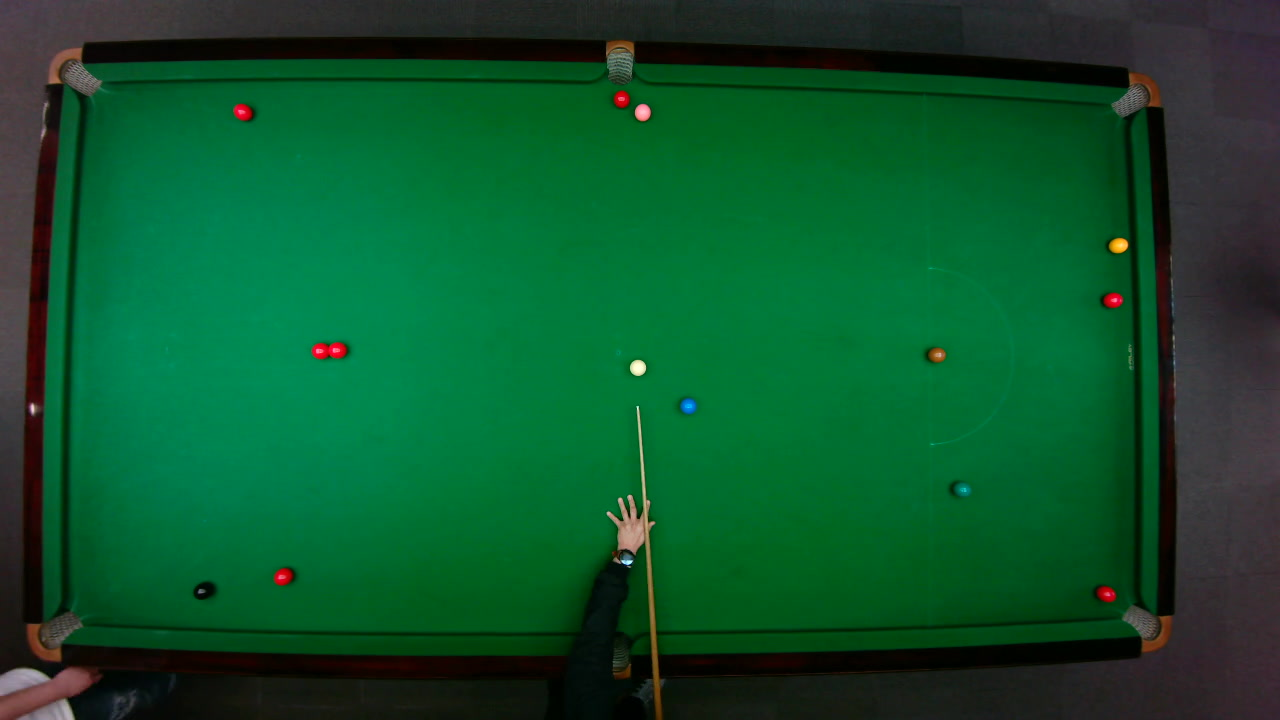bag: (25, 609, 84, 660), (45, 46, 102, 96), (1119, 603, 1172, 652), (1108, 71, 1161, 117), (597, 630, 630, 680), (605, 39, 633, 84)
black: (192, 581, 213, 600)
blue: (678, 397, 697, 414)
brown: (926, 346, 945, 362)
cue: (635, 402, 662, 720)
green: (951, 480, 972, 497)
pink: (632, 102, 651, 122)
red: (272, 565, 294, 586), (325, 340, 347, 359), (1094, 584, 1116, 602), (310, 341, 331, 359), (232, 102, 253, 120), (1101, 291, 1123, 308), (611, 89, 630, 108)
white: (628, 358, 647, 376)
yellow: (1107, 236, 1129, 253)
zone: (926, 265, 1013, 445)
